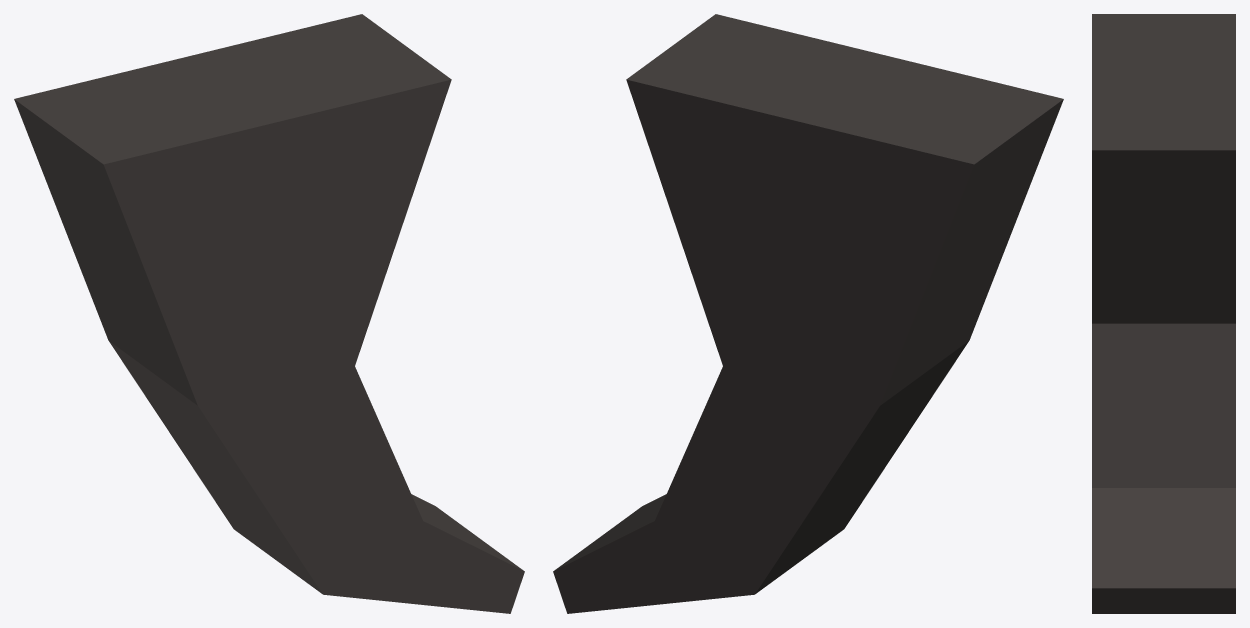
The model's file is Pistol1_03_3.fbx.
3 views of the same model, side by side, from view 1: azimuth 30°, elevation 25°; view 2: azimuth 150°, elevation 25°; view 3: azimuth 270°, elevation 25° (orthographic). The views are drawn at different scales.
Visible parts, largest first — view 1: Pistol1_03_3; view 2: Pistol1_03_3; view 3: Pistol1_03_3.
Part boxes in pixels (x1,y1,x2,y2): Pistol1_03_3: (14, 14, 524, 613); Pistol1_03_3: (553, 14, 1063, 613); Pistol1_03_3: (1092, 14, 1235, 613).
Size of the model in its own units: 0.026 by 0.0324 by 0.00958.
